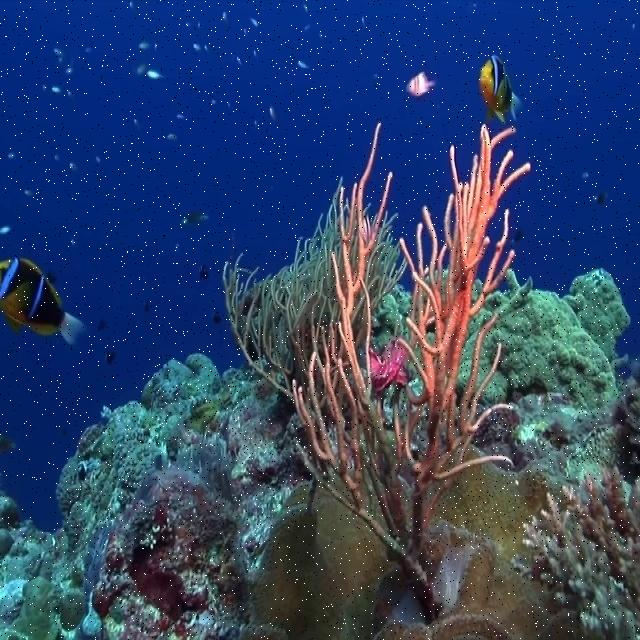fish: (0, 255, 84, 346), (480, 53, 521, 123), (406, 69, 435, 97)
reefs: (292, 122, 531, 609), (247, 463, 584, 639), (222, 175, 406, 401), (513, 465, 638, 639)
sea-floor: (0, 355, 329, 639), (458, 270, 629, 412)
